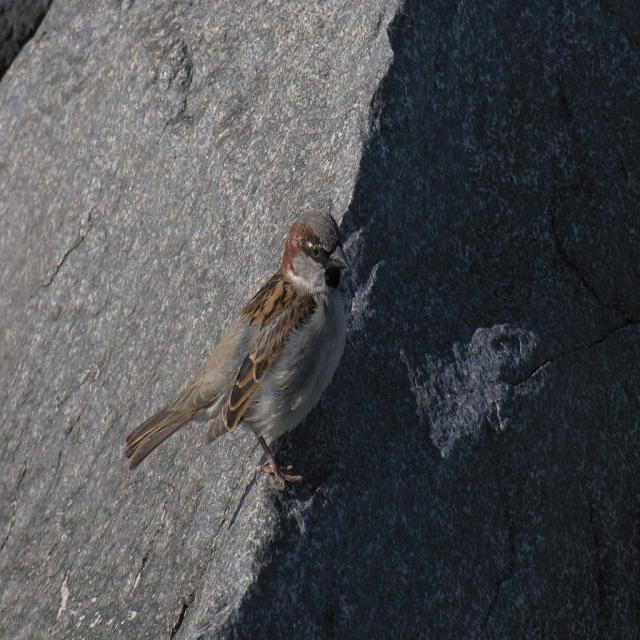bird: (116, 201, 356, 520)
